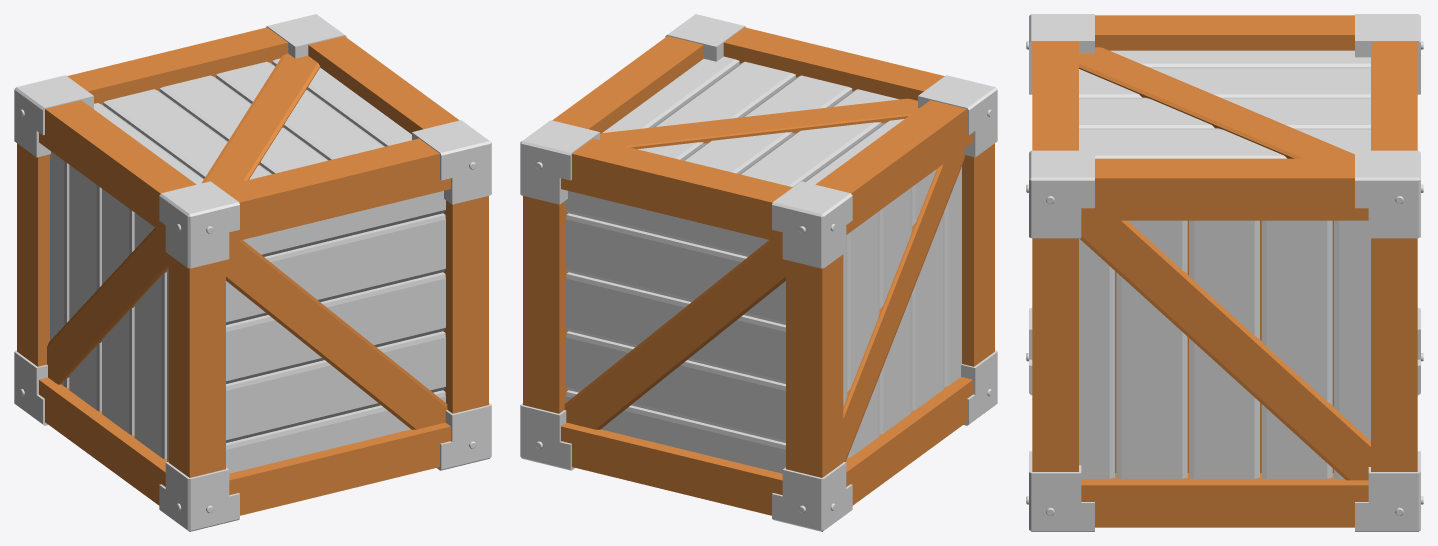
File: Crate.fbx
3 renders of one model, left to right at view 1: azimuth 30°, elevation 25°; view 2: azimuth 150°, elevation 25°; view 3: azimuth 270°, elevation 25°, orthographic. The views are drawn at different scales.
Visible parts, largest first — view 1: SM_Crate; view 2: SM_Crate; view 3: SM_Crate.
Boxes of the visible parts, x1,y1,x2,y2 form: SM_Crate: (14, 14, 491, 531); SM_Crate: (520, 14, 997, 531); SM_Crate: (1026, 14, 1423, 531).
Bounding box in the file's own units: 103 × 101 × 103.
